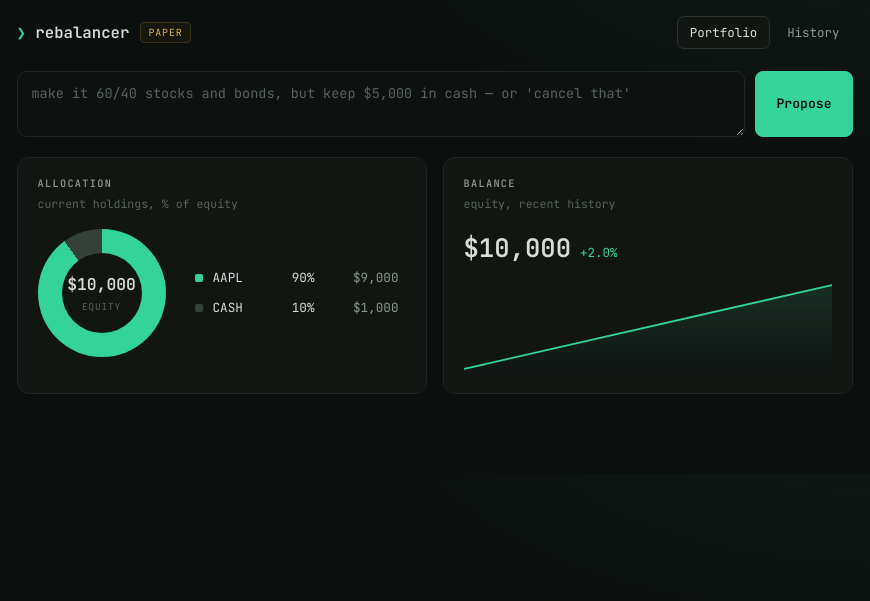
Scenario: App › proposes, shows the proposal, then confirms and shows the result
Type "put 10% in bonds" into the text box named "request". click: (381, 104)
box: x1=16 y1=71 x2=745 y2=137
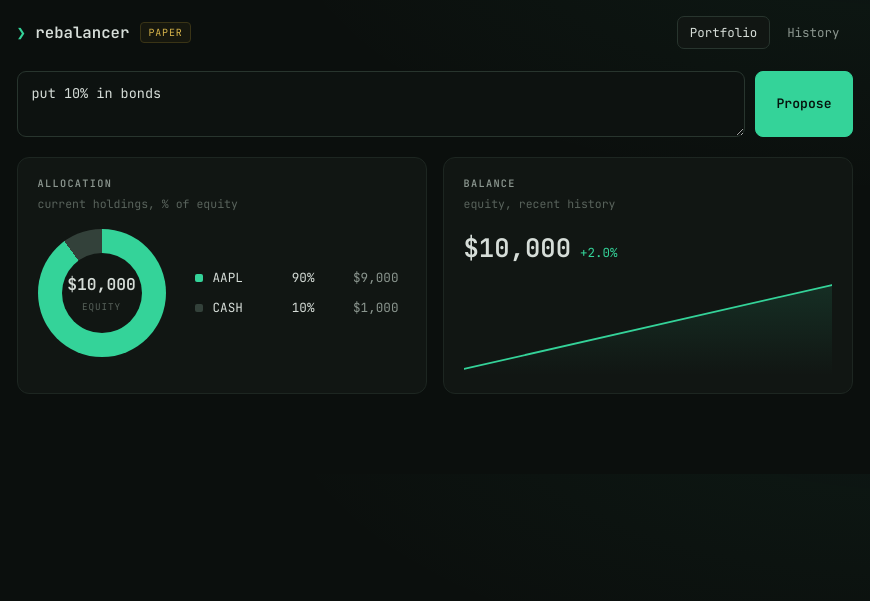
Click the button "Propose". click: (804, 104)
box: x1=755 y1=71 x2=852 y2=137
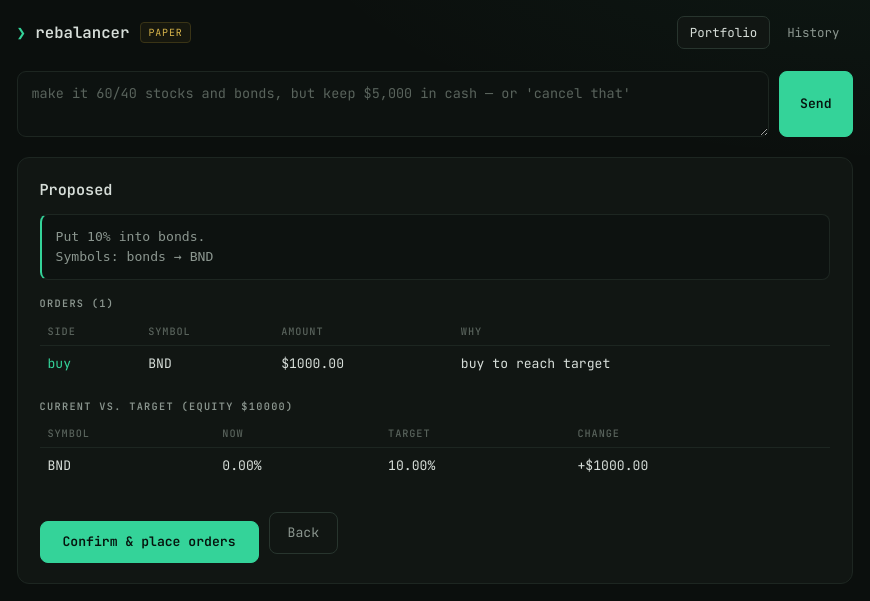
Expected: the heading "Proposed" is shown, x1=40 y1=179 x2=112 y2=200
Expected: the text "$1000.00" is shown, x1=273 y1=346 x2=453 y2=382
Click the button "Confirm & place orders". click: (149, 542)
box: x1=40 y1=521 x2=258 y2=563
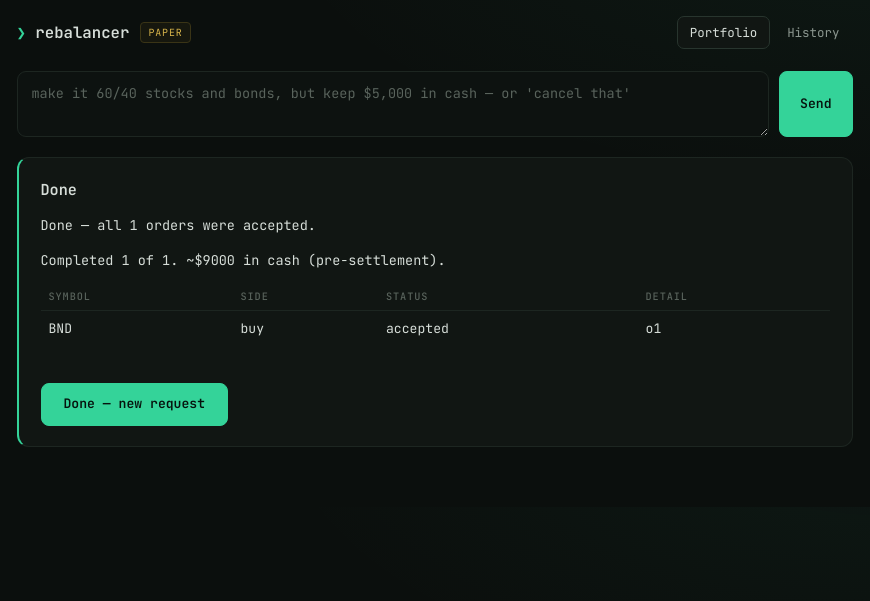
Expected: the heading "Done" is shown, x1=40 y1=179 x2=77 y2=200
Expected: the text "Completed 1 of 1. ~$9000 in cash (pre-settlement)." is shown, x1=40 y1=251 x2=446 y2=269
